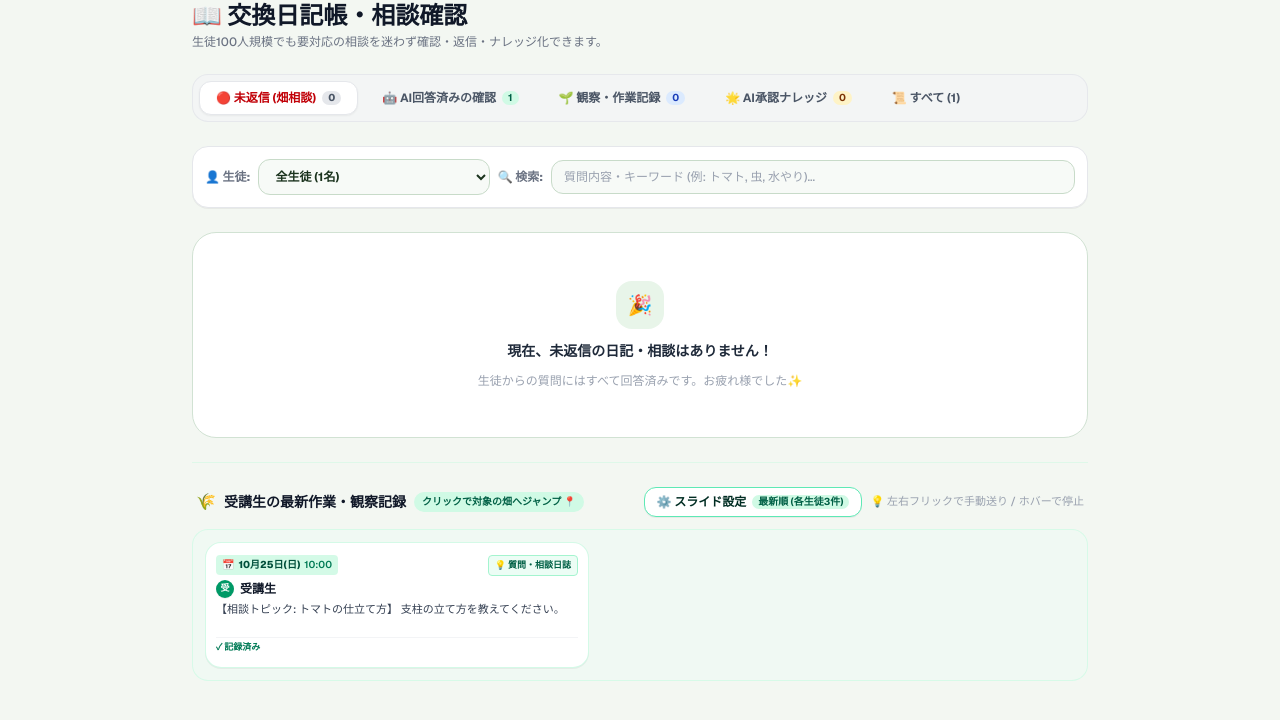
Test: TeacherJournalsView - 返信通知保存エラー時のユーザーフィードバック › handleSaveReply: 返信通知の insert が DB エラー (resolve error) を返したとき、警告トーストが表示されること
「📜 すべて」タブに切り替えて日誌を表示
Click the button "📜 すべて (1)": [926, 98] box [876, 82, 976, 114]
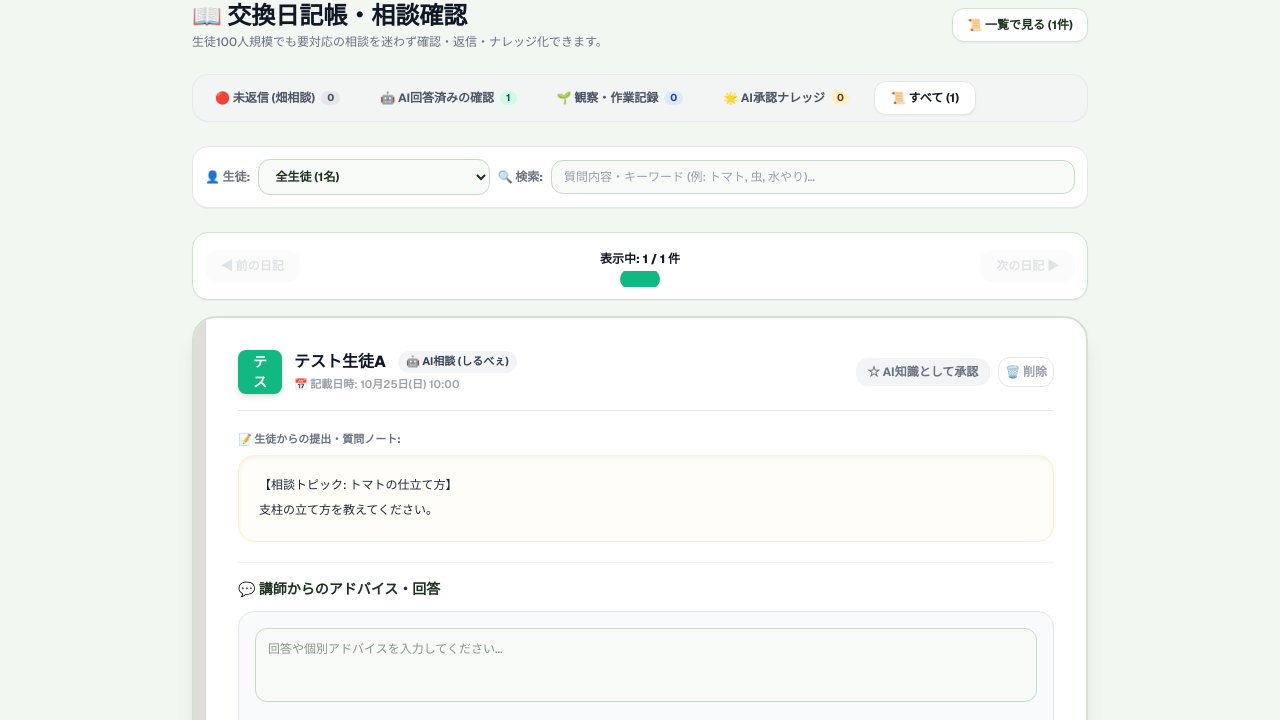
返信テキストを入力
In the text box with placeholder "回答や個別アドバイスを入力してください...": [646, 665] box [255, 628, 1037, 702], type "支柱は合掌式で立ててください。"
(page scrolled)
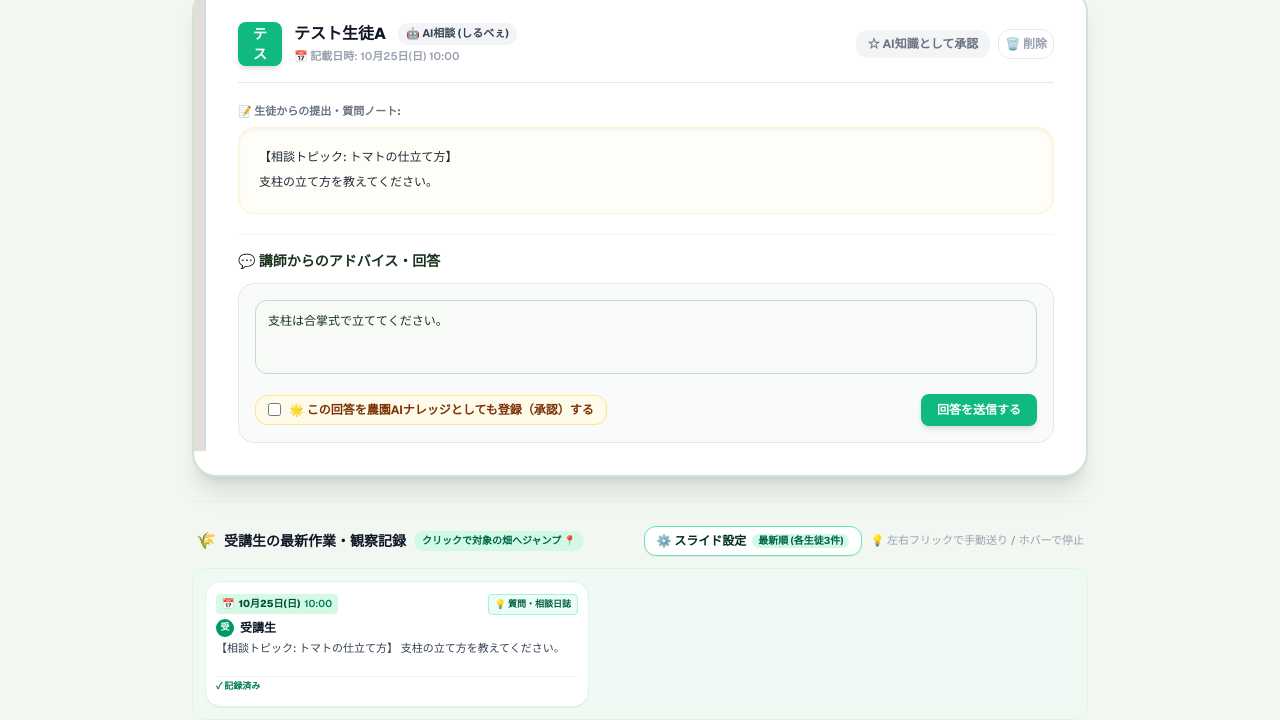
送信ボタンを押下
Click the button "回答を送信する": [979, 410] box [921, 394, 1037, 426]
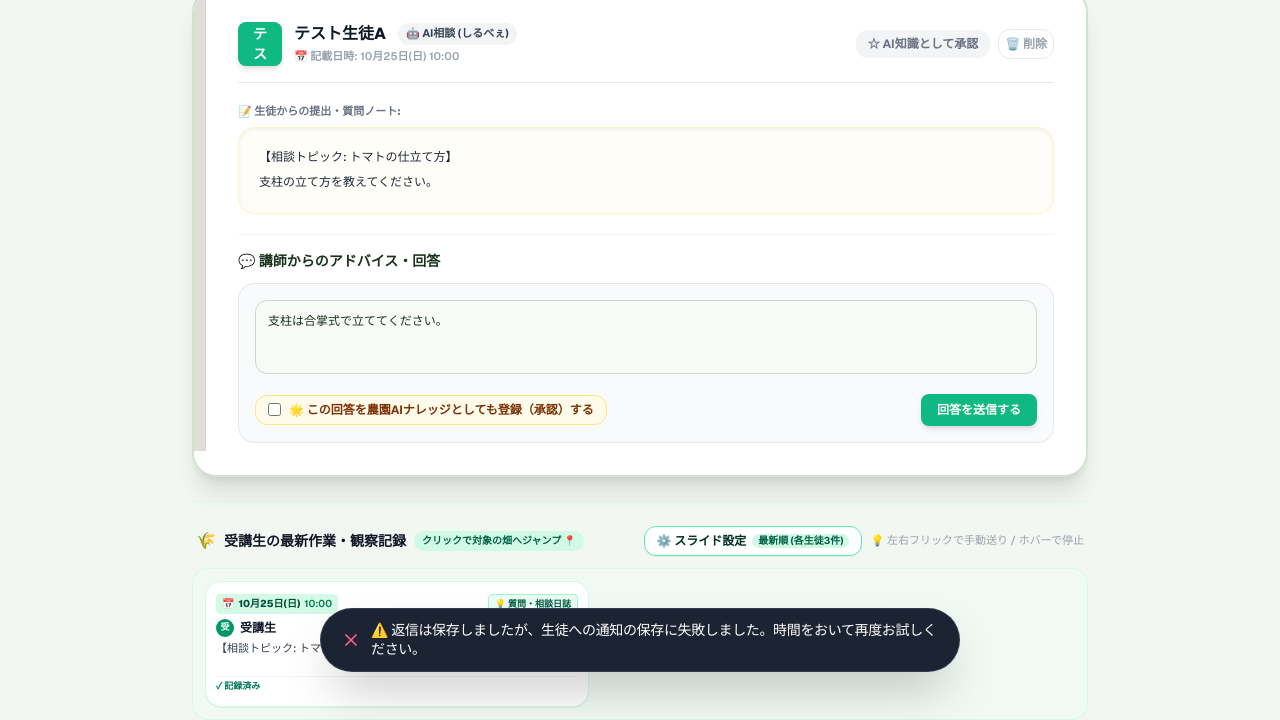
Expected: the text "⚠️ 返信は保存しましたが、生徒への通知の保存に失敗しました。時間をおいて再度お試しください。" is shown, [371, 620, 939, 659]
